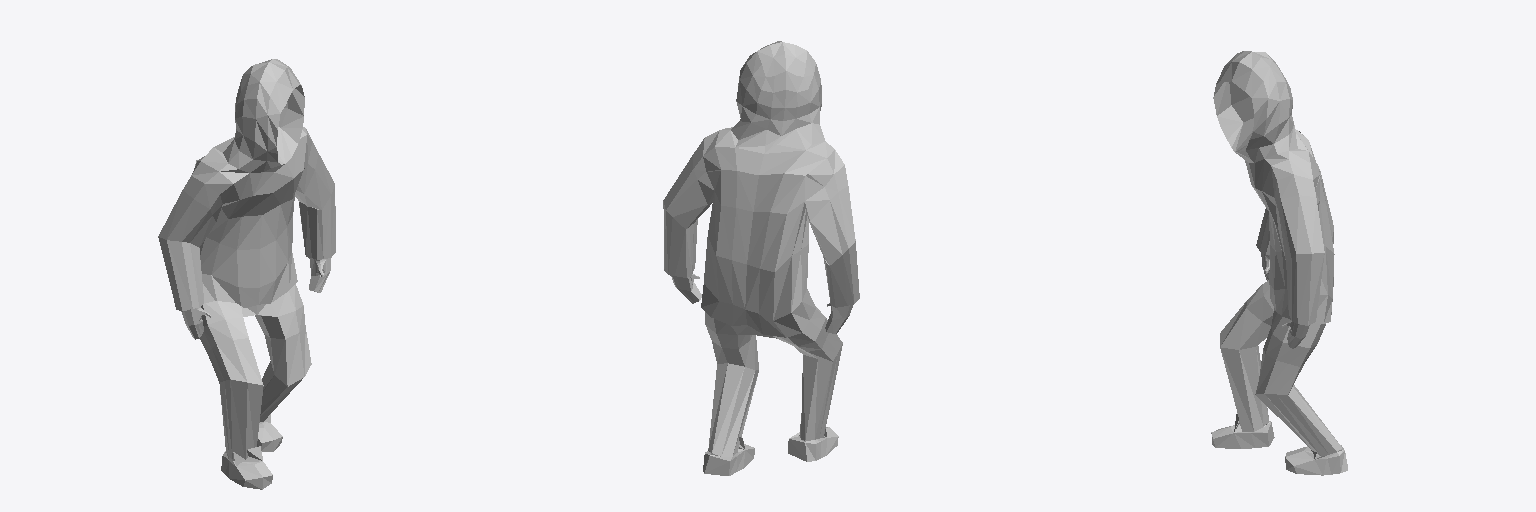
File: Shadowmanv_000010.obj
3 views of the same model, side by side, from view 1: azimuth 30°, elevation 25°; view 2: azimuth 150°, elevation 25°; view 3: azimuth 270°, elevation 25° (orthographic).
Visible parts, largest first — view 1: Cube.000; view 2: Cube.000; view 3: Cube.000.
Part boxes in pixels (x1,y1,x2,y2): Cube.000: (158, 59, 335, 489); Cube.000: (663, 41, 859, 475); Cube.000: (1211, 51, 1347, 475).
Size of the model in its own units: 5.08 by 11.09 by 3.38.